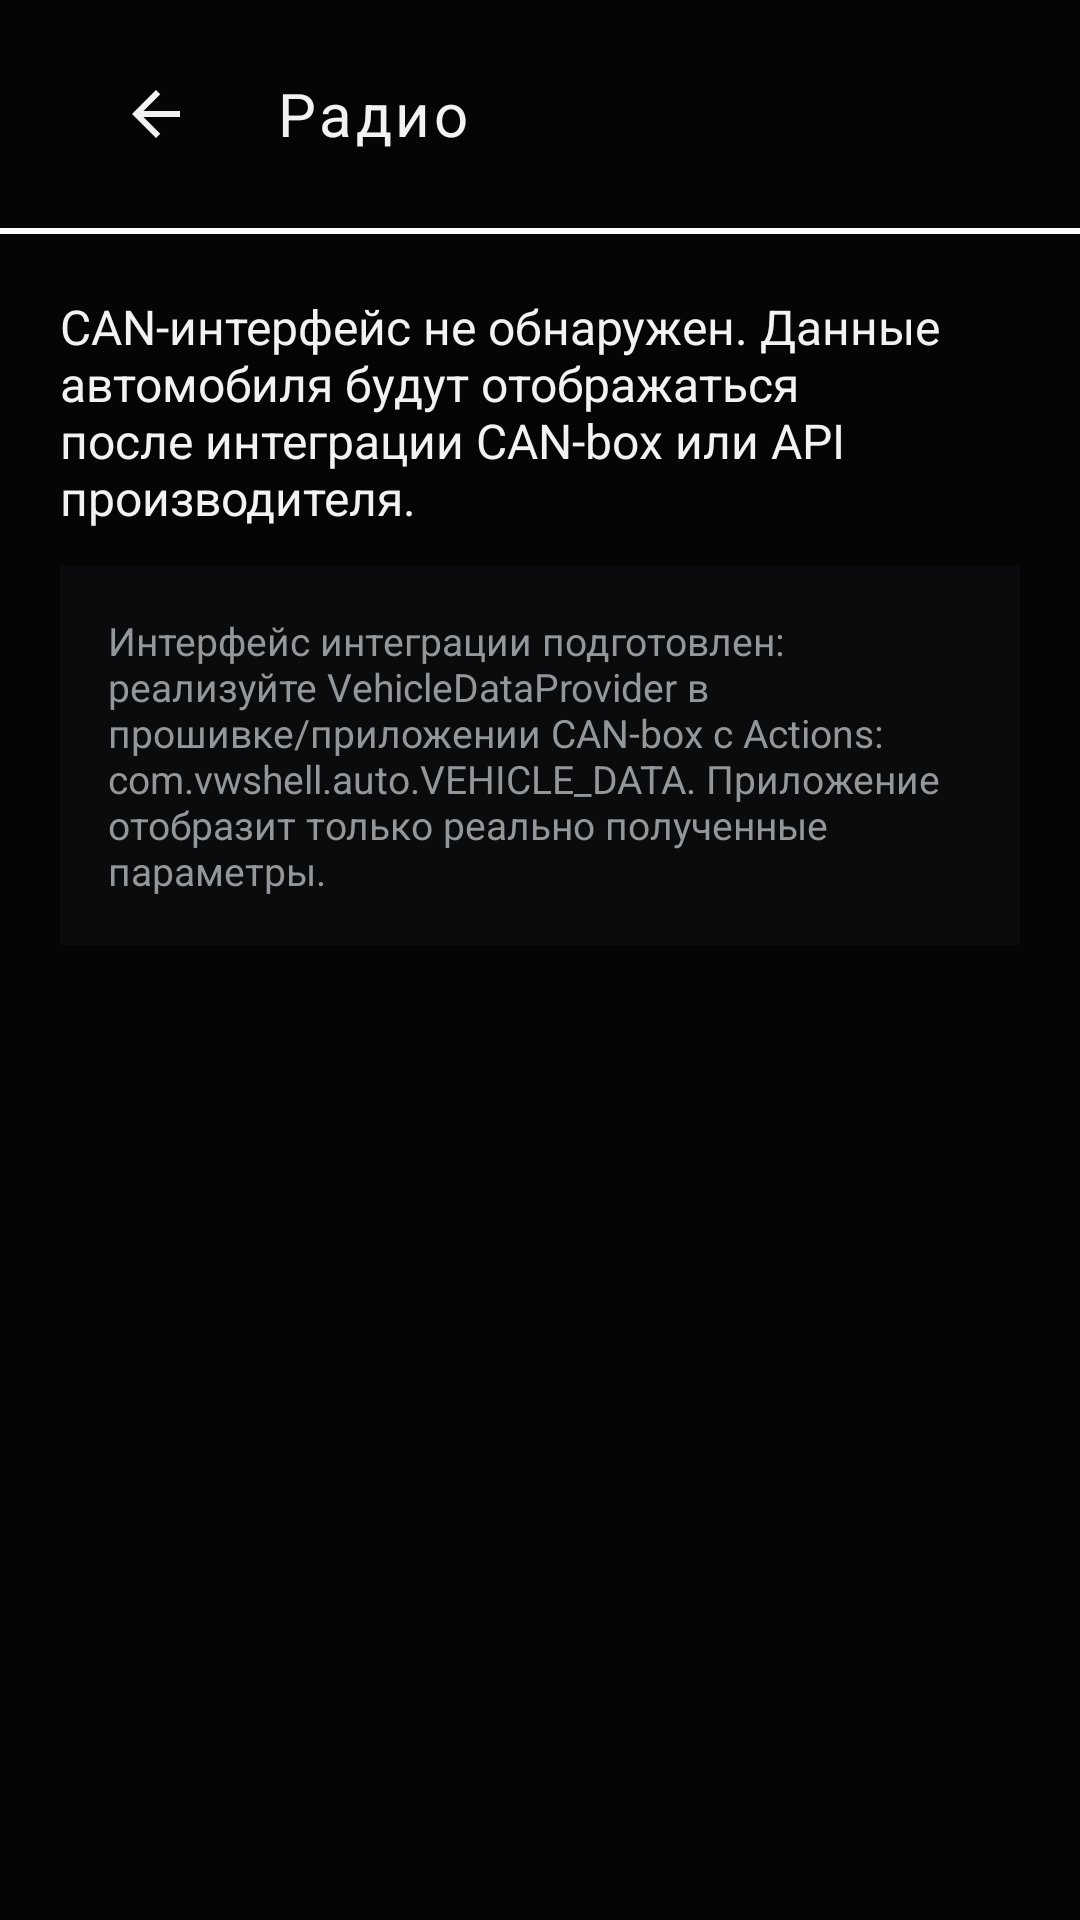

Where icons sit on this 1080 x 1920 app screen, as (x1=x1, y1=y1, x2=x2, y2=y2):
Назад: (x1=132, y1=90, x2=180, y2=138)
